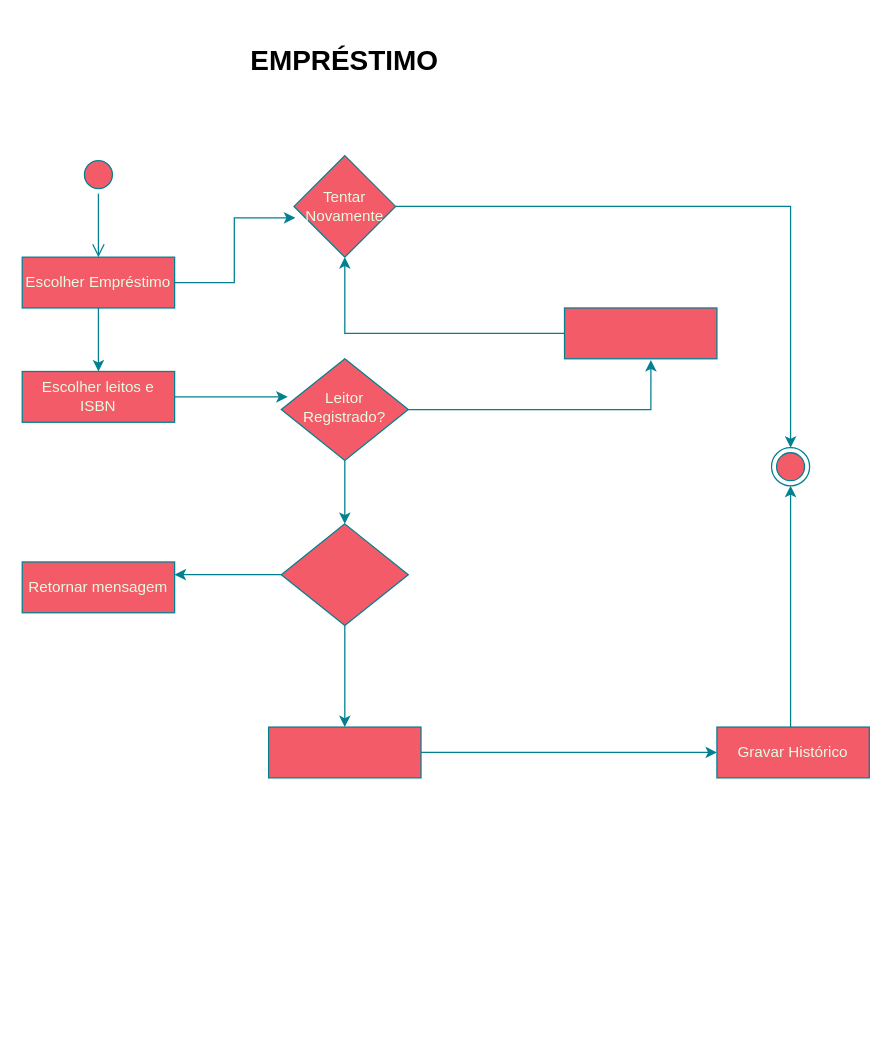
The diagram is 892 pixels wide and 1041 high, and some of its shapes have lost their labels. Here are the shapes that lost their labels. From the top down, the centre of each, then its label:
At pixel 640 333: "Registrar Leitor".
At pixel 344 574: "Livro Existe?".
At pixel 344 752: "Confirmar Empréstimo".
